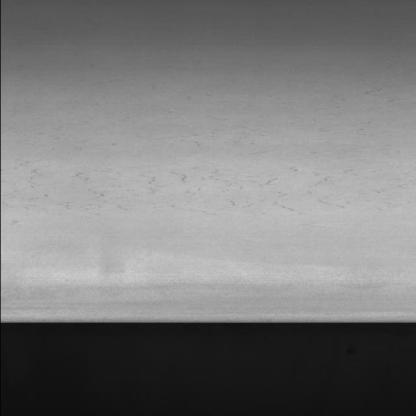silk_spot: (10, 155, 392, 223)
